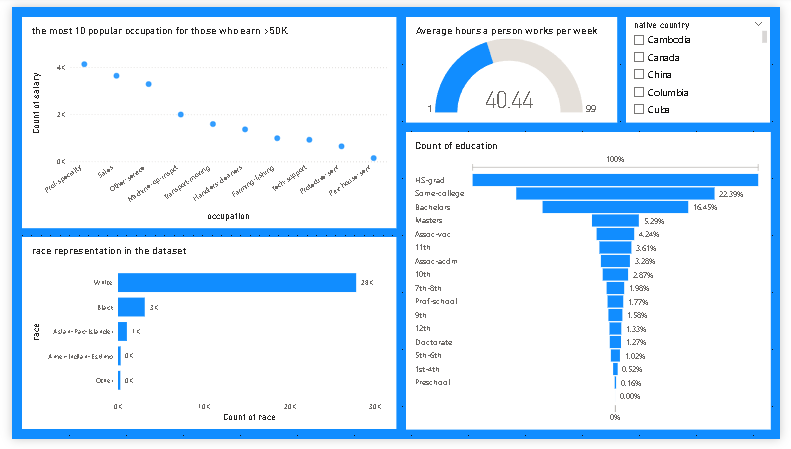

The page's visual inventory and layout, read from the dashboard file:
{"tool":"powerbi","page":{"name":"sample 02","canvas":[1280,720],"ordinal":1},"visuals":[{"type":"funnel","title":"Count of education","fields":{"Category":["adult data.education"],"Y":["Divide(CountNonNull(adult data.education), ScopedEval(CountNonNull(adult data.education), []))"]},"box":[656,208,608,496],"z":0},{"type":"clusteredBarChart","title":"race representation in the dataset","fields":{"Category":["adult data.race"],"Y":["CountNonNull(adult data.race)"]},"box":[16,384,624,320],"z":1000},{"type":"scatterChart","title":"the most 10 popular occupation for those who earn >50K.","fields":{"X":["adult data.occupation"],"Y":["CountNonNull(adult data.salary)"]},"box":[16,16,624,352],"z":2000},{"type":"slicer","fields":{"Values":["adult data.native-country"]},"box":[1024,16,240,176],"z":3000},{"type":"gauge","title":"Average hours a person works per week","fields":{"Y":["Avg(adult data.hours-per-week)"],"MinValue":["Min(adult data.hours-per-week)"],"MaxValue":["Max(adult data.hours-per-week)"]},"box":[656,16,352,176],"z":4000}]}

Visuals, with their boxes in screenshot pixels (x1, y1, x2, y2), scaled from the page's 1280x720 canvas onto the 791x449 screenshot:
"Count of education" funnel: (left=405, top=130, right=781, bottom=439)
"race representation in the dataset" clusteredBarChart: (left=10, top=239, right=396, bottom=439)
"the most 10 popular occupation for those who earn >50K." scatterChart: (left=10, top=10, right=396, bottom=229)
slicer - adult data.native-country: (left=633, top=10, right=781, bottom=120)
"Average hours a person works per week" gauge: (left=405, top=10, right=623, bottom=120)
